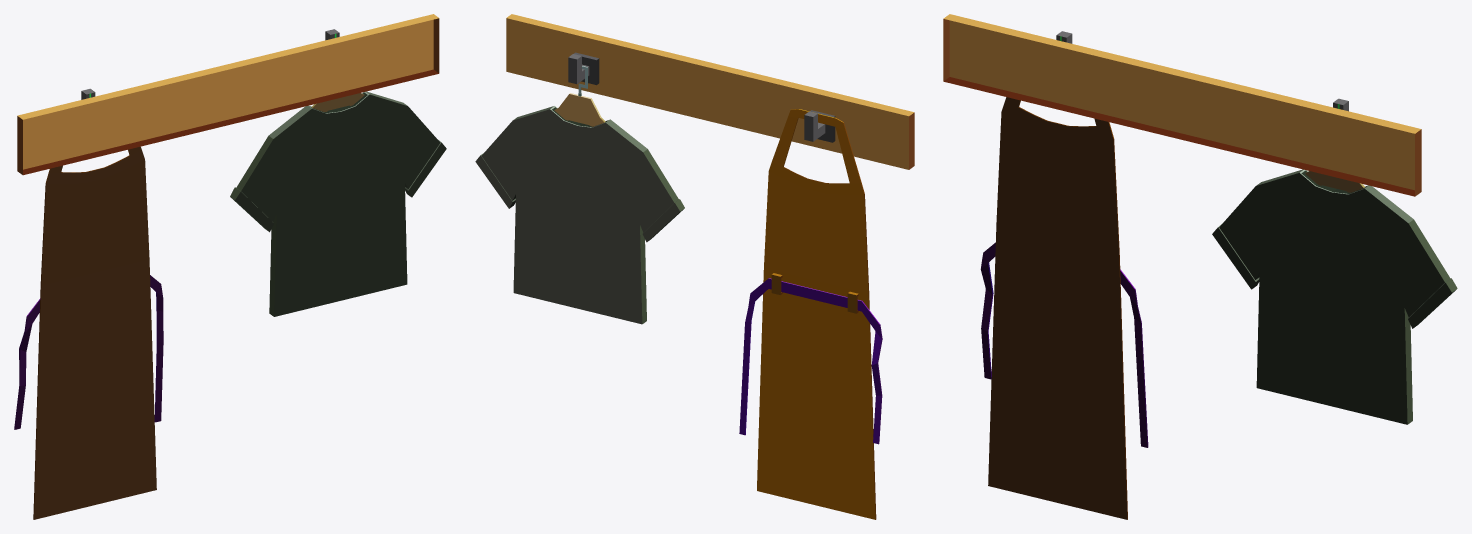
File: Habits_pecheur.fbx
3 renders of one model, left to right at view 1: azimuth 30°, elevation 25°; view 2: azimuth 150°, elevation 25°; view 3: azimuth 330°, elevation 25°, orthographic. The views are drawn at different scales.
Visible parts, largest first — view 1: Tablier, T shirt, Porte manteau mural; view 2: Tablier, T shirt, Porte manteau mural, Porte manteau mural.001, Cyntre; view 3: Tablier, T shirt, Porte manteau mural, Cyntre.
Part boxes in pixels (bbox=[...]): Tablier: bbox=[14, 146, 163, 519]; T shirt: bbox=[230, 91, 446, 316]; Porte manteau mural: bbox=[17, 14, 439, 175]; Tablier: bbox=[739, 109, 882, 519]; T shirt: bbox=[475, 106, 684, 324]; Porte manteau mural: bbox=[506, 14, 914, 169]; Porte manteau mural.001: bbox=[568, 52, 835, 142]; Cyntre: bbox=[554, 66, 605, 126]; Tablier: bbox=[980, 97, 1148, 519]; T shirt: bbox=[1212, 169, 1457, 424]; Porte manteau mural: bbox=[943, 14, 1421, 196]; Cyntre: bbox=[1305, 171, 1364, 192].
Size of the model in its own units: 321 by 293 by 29.56.
